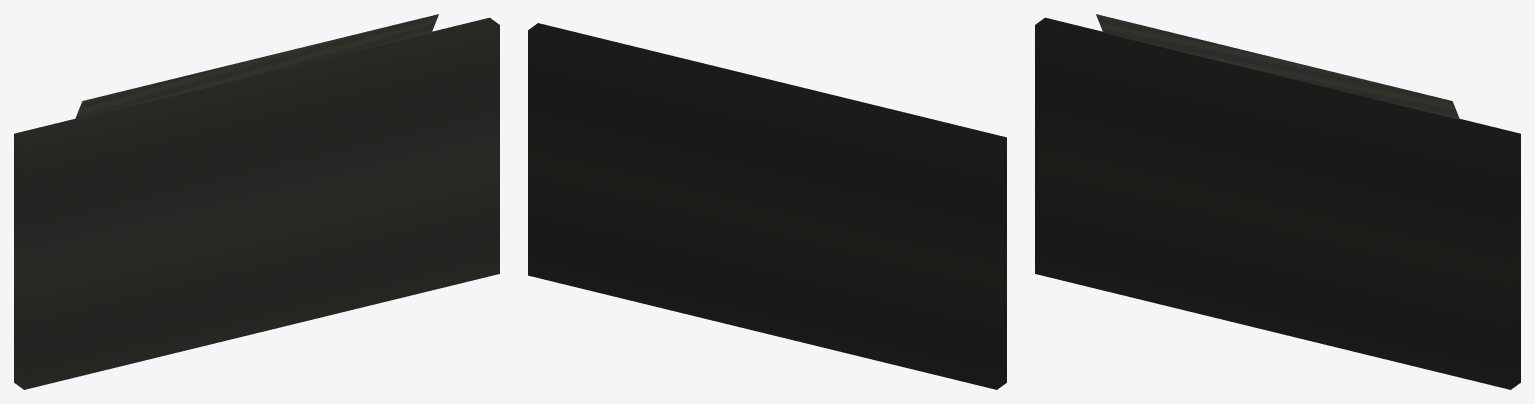
File: env_gate_sliding_6m.glb
The picture shows the model from 3 angles, left to right: view 1: azimuth 30°, elevation 25°; view 2: azimuth 150°, elevation 25°; view 3: azimuth 330°, elevation 25°; orthographic projection.
Visible parts, largest first — view 1: env_gate_sliding_6m; view 2: env_gate_sliding_6m; view 3: env_gate_sliding_6m.
Boxes of the visible parts, bbox=[...] form: env_gate_sliding_6m: bbox=[14, 14, 499, 389]; env_gate_sliding_6m: bbox=[528, 23, 1006, 389]; env_gate_sliding_6m: bbox=[1035, 14, 1520, 389].
Size of the model in its own units: 6 by 3.3 by 0.22.
1 material, 1 textured.
